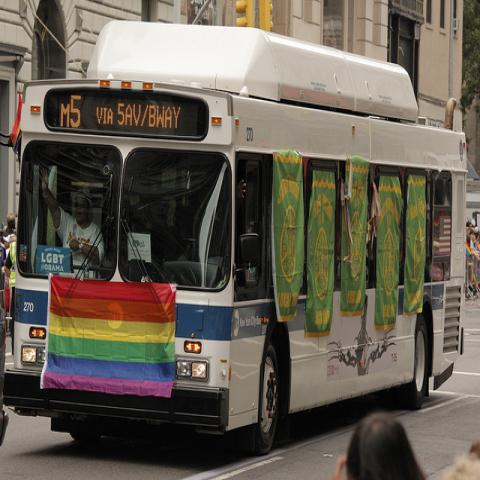bus: (4, 16, 466, 456)
